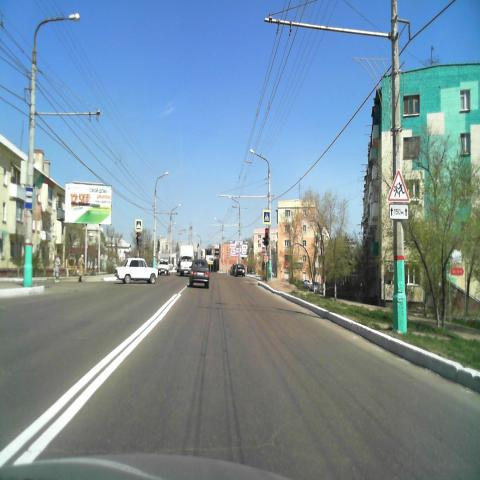8_2_1: (389, 203, 408, 219)
